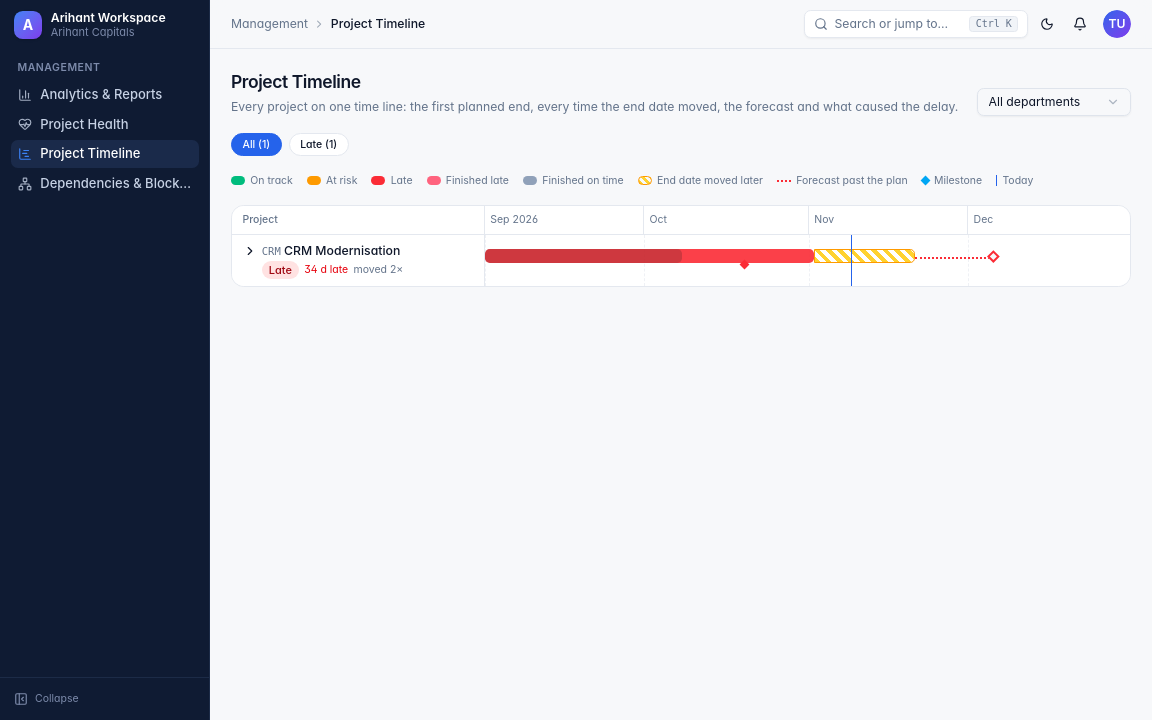
Project Timeline › hides names when the viewer only sees their own work
Click the button "CRM CRM Modernisation Late 34 d late moved 2×".
click(358, 261)  # box [232,235,484,286]
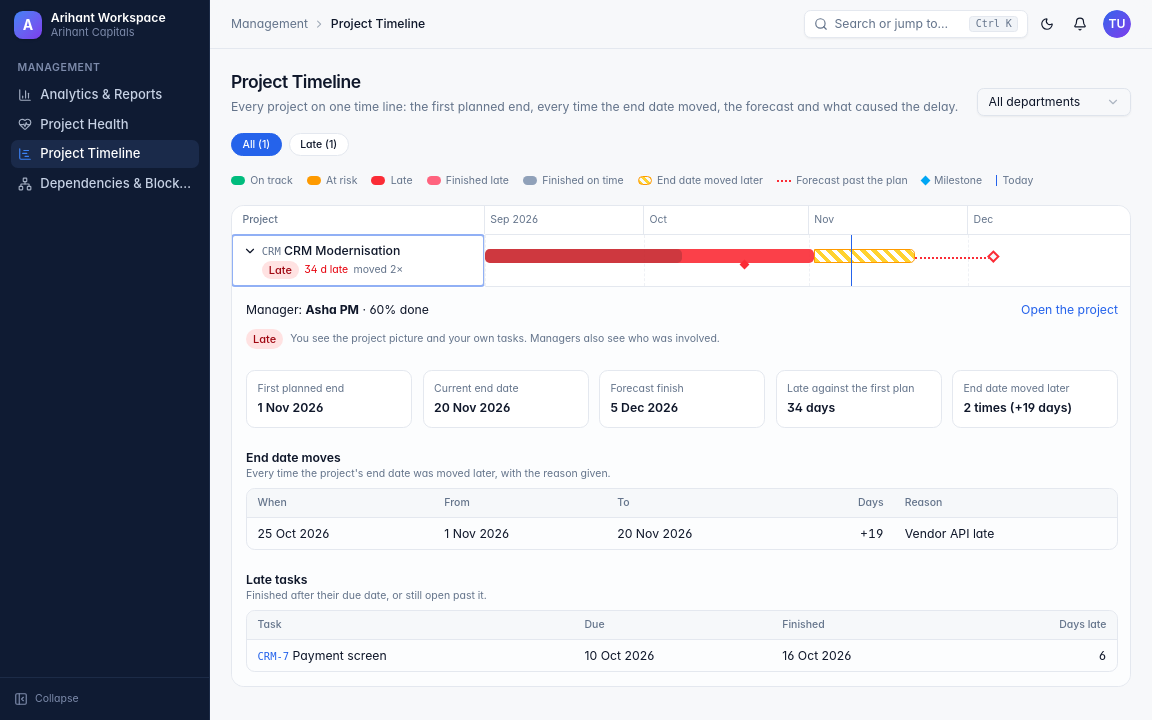
expect the text "Managers also see who was involved" is shown: met, box [290,332,720,345]
